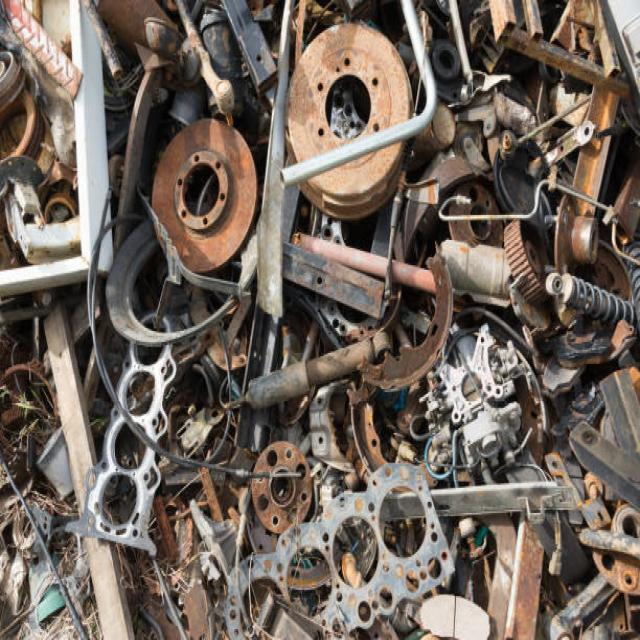metal: (29, 47, 582, 640)
